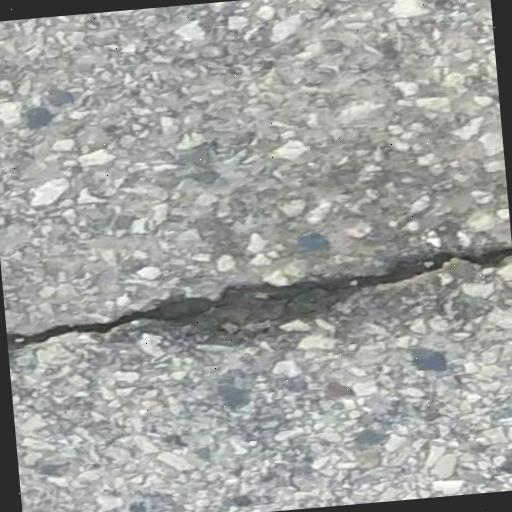spalling: (11, 237, 509, 365)
